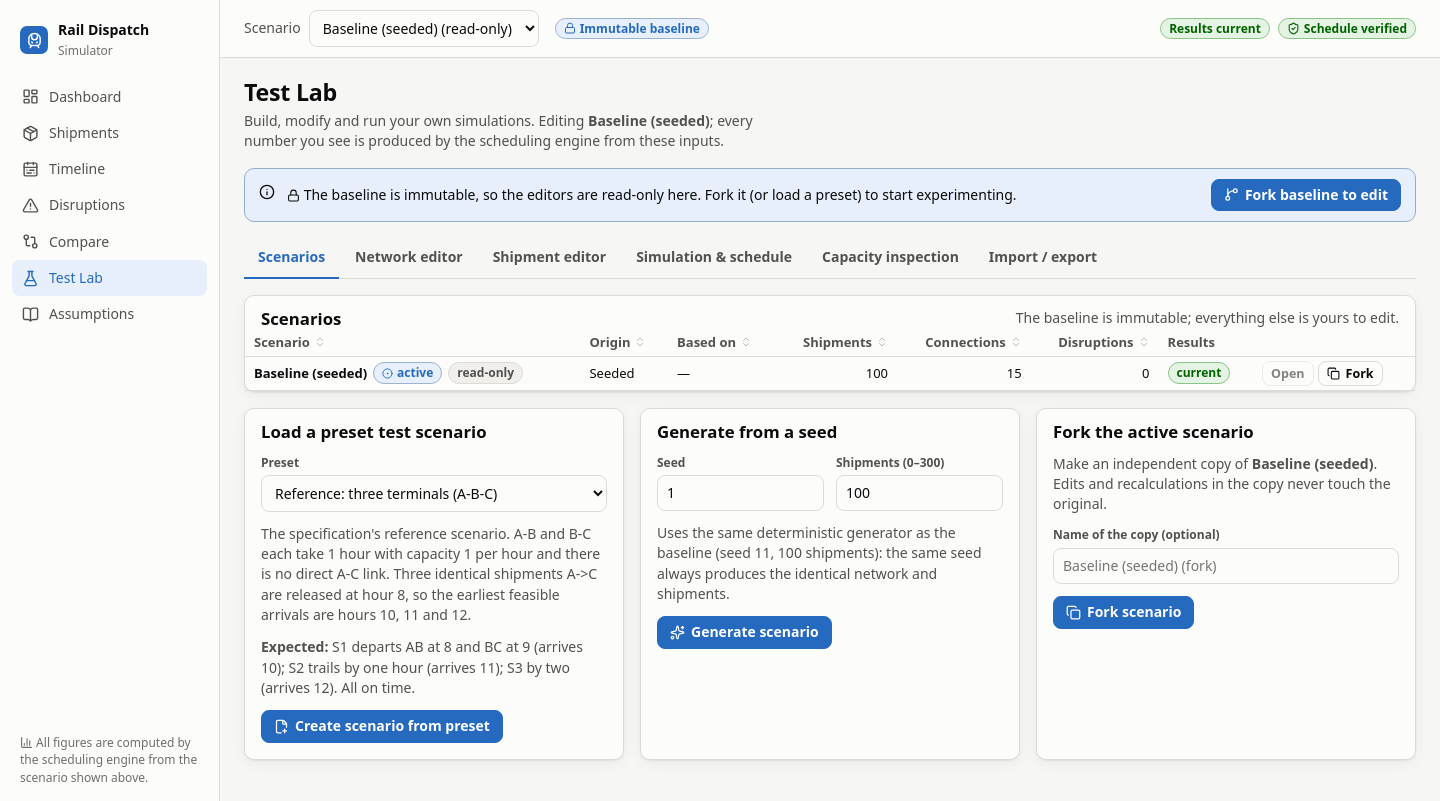
test lab › shows validation errors for impossible edits and keeps the data unchanged
Click the button "Fork scenario" at (1124, 612), box [1053,596,1194,629]
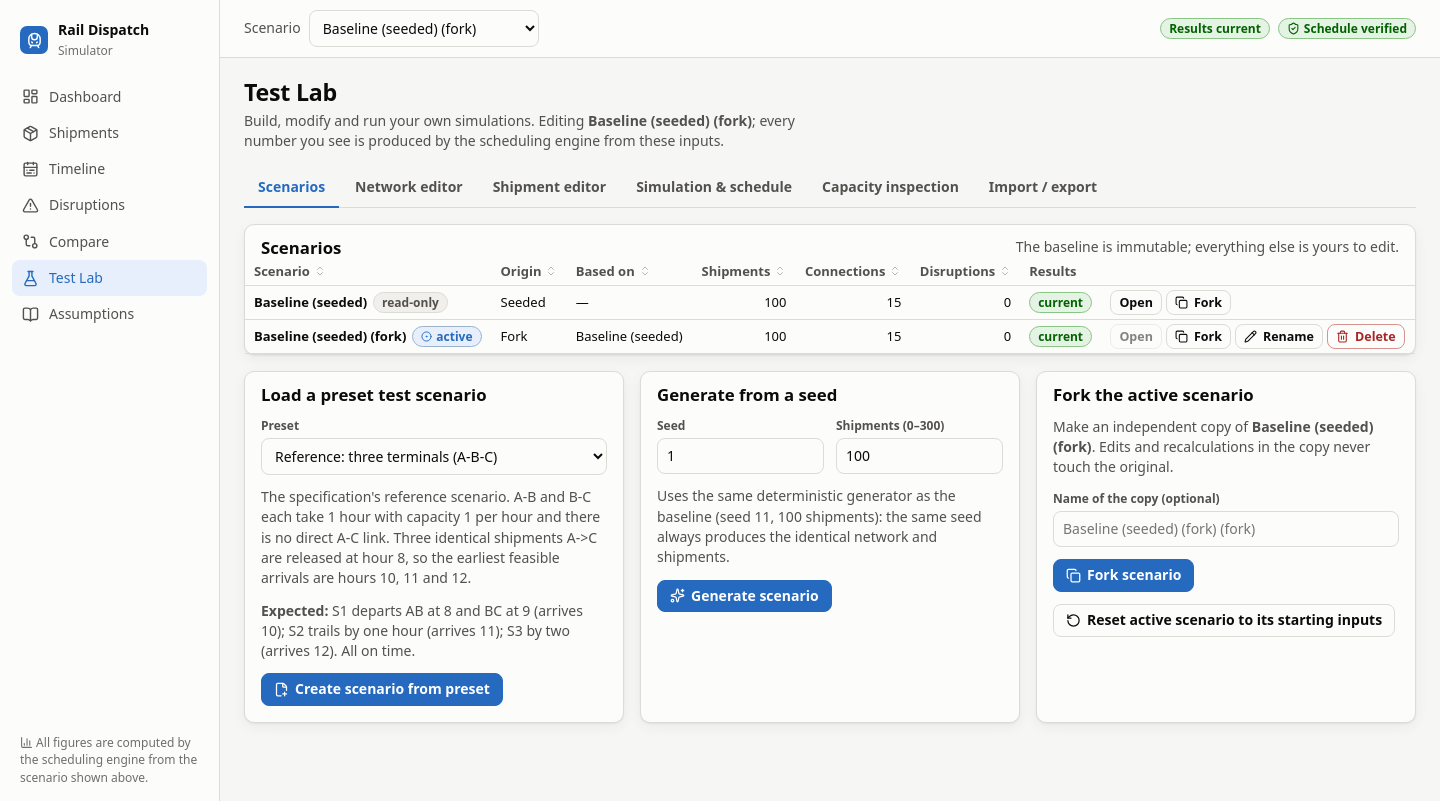
Click the link "Shipment editor" at (549, 186), box [493,177,606,196]
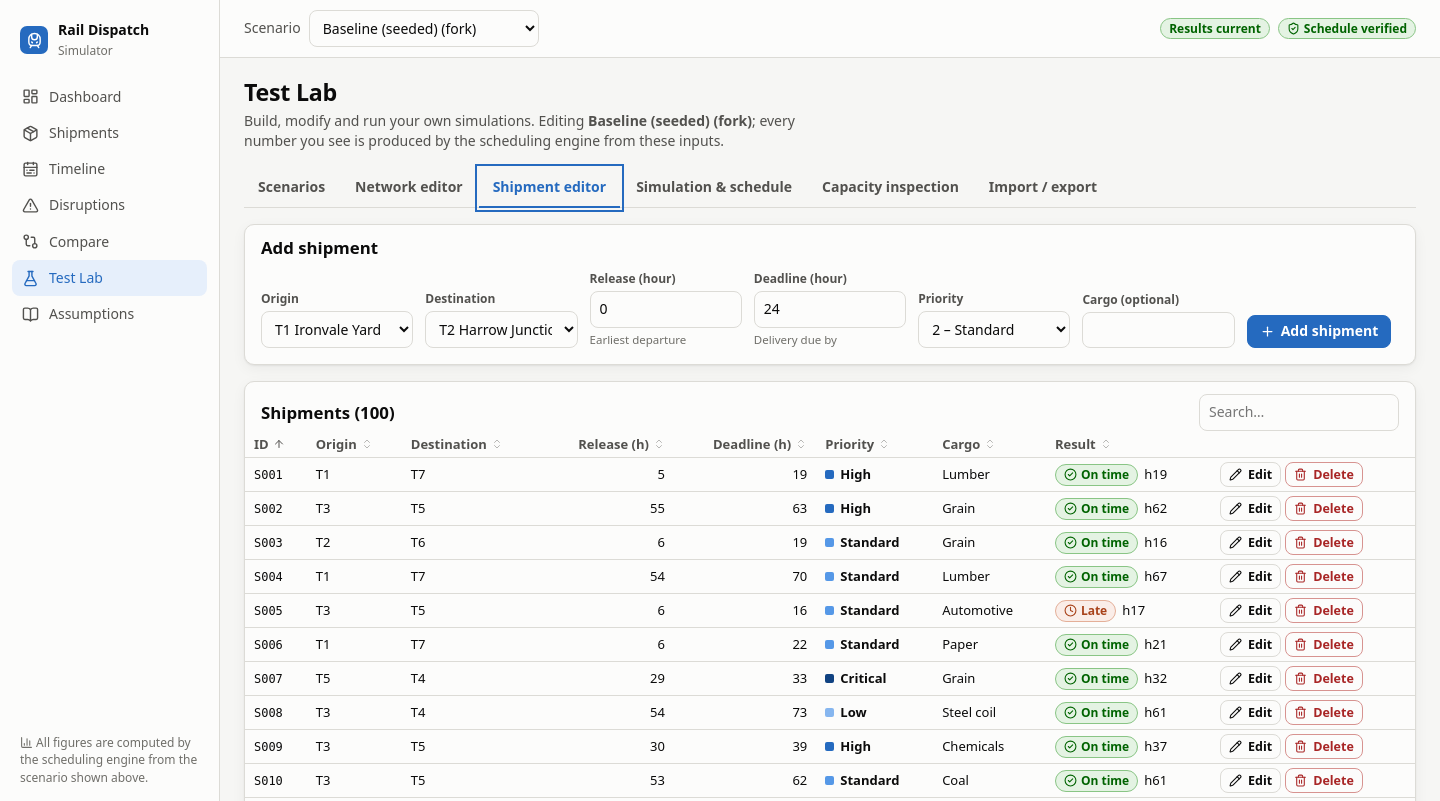
Select "T1 Ironvale Yard" in the dropdown labelled "Destination" at (501, 330), box [425,311,578,348]
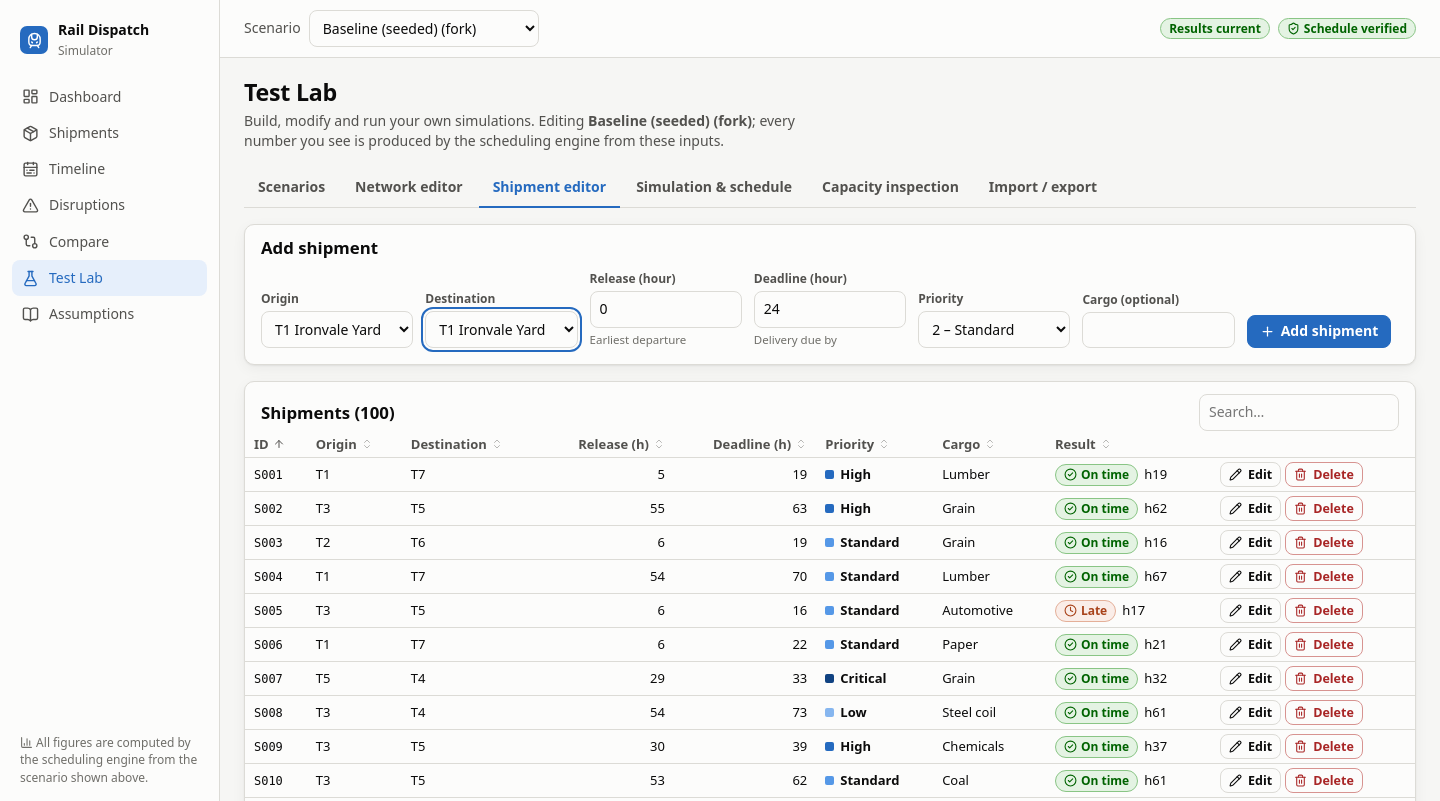
Click the button "Add shipment" at (1319, 332), box [1247,315,1391,348]
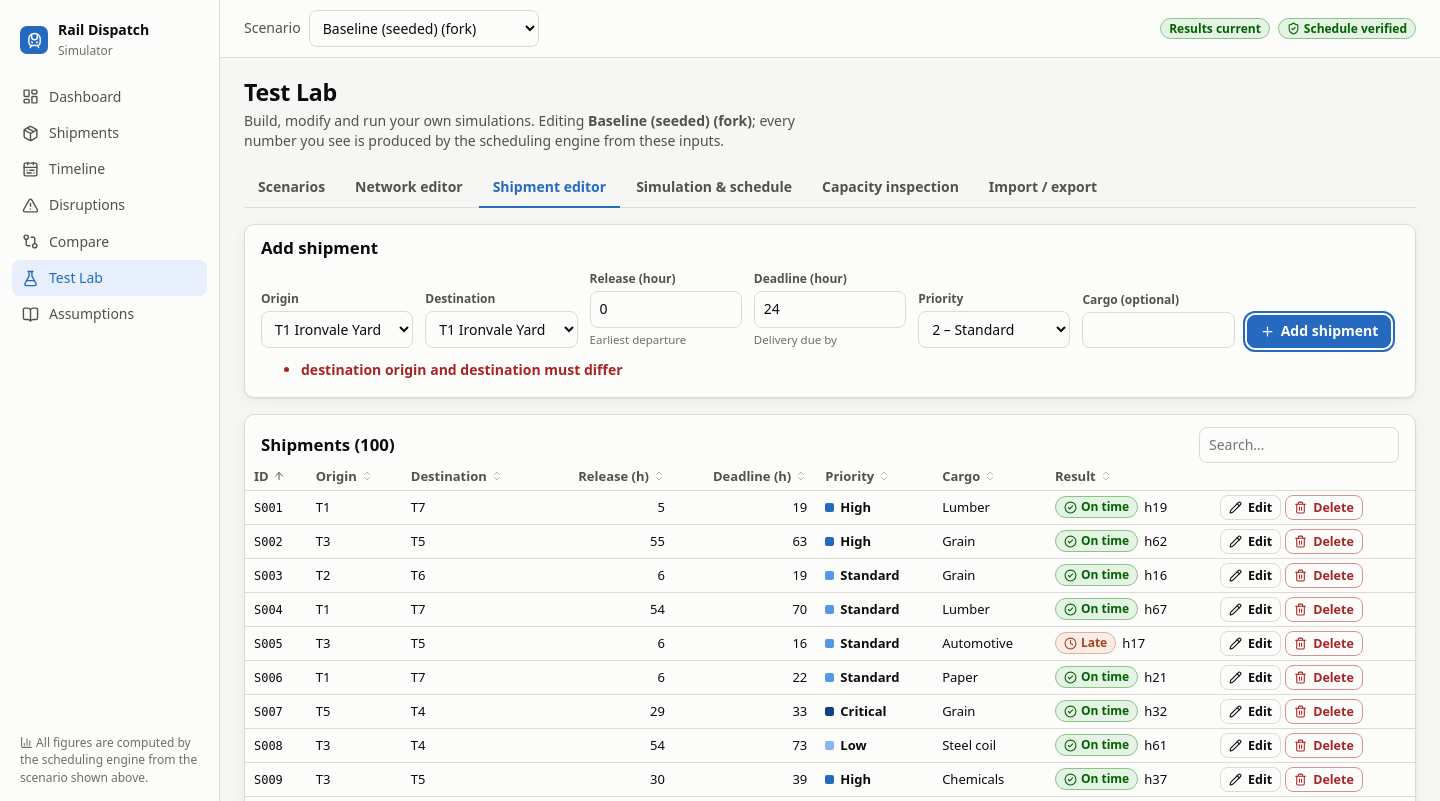
Check: the heading "Shipments (100)" is shown, box [261,434,395,455]
Check: the message shows "origin and destination must differ", box [301,360,622,379]
